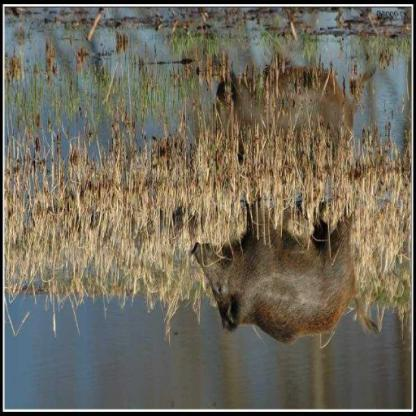boar: (174, 188, 415, 347)
